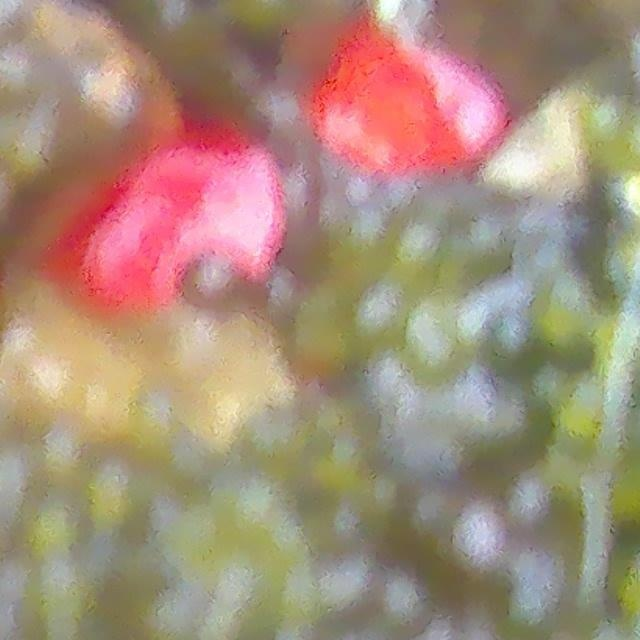SeaGrape: (433, 506, 516, 588), (181, 259, 253, 319)
